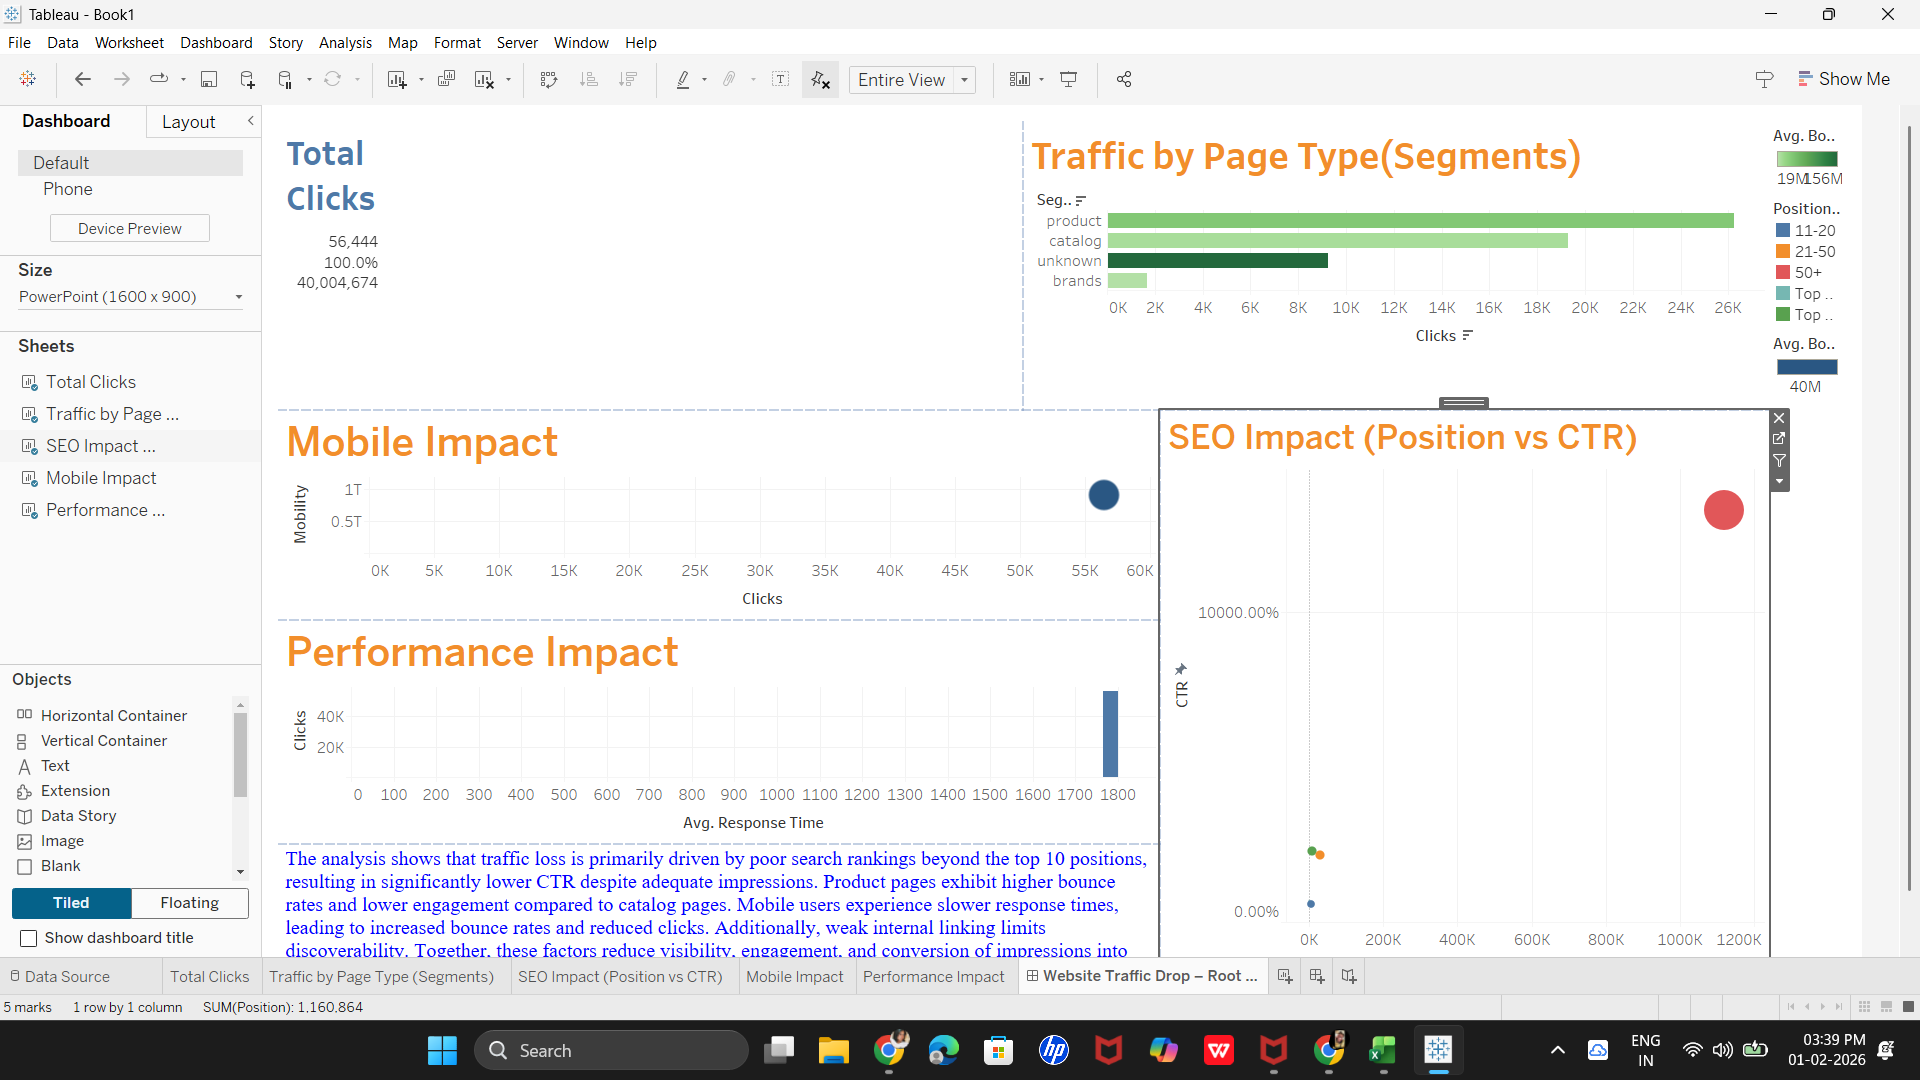

Layout of this report page (visuals, bound fields, positions):
{"tool":"tableau","page":{"name":"Website Traffic Drop – Root Cause Analysis","canvas":[1600,900],"ordinal":0},"visuals":[{"type":"worksheet","title":"Total Clicks","mark":"Automatic","box":[16,16,745.4,289.3]},{"type":"worksheet","title":"Traffic by Page Type (Segments)","mark":"Automatic","rows":["Segments"],"cols":["Clicks"],"box":[761.4,16,745.6,289.3]},{"type":"legend","title":"Traffic by Page Type (Segments)","param":"[federated.0e7lbdt1mvdj1x1cw9acv07dqodu].[avg:BounceRate:qk]","box":[1507,16,77,73]},{"type":"legend","title":"SEO Impact (Position vs CTR)","param":"[federated.0e7lbdt1mvdj1x1cw9acv07dqodu].[none:Position_Bucket:nk]","box":[1507,89,77,135]},{"type":"legend","title":"Mobile Impact","param":"[federated.0e7lbdt1mvdj1x1cw9acv07dqodu].[avg:BounceRate:qk]","box":[1507,224,77,73]},{"type":"worksheet","title":"Mobile Impact","mark":"Circle","rows":["Mobility"],"cols":["Clicks"],"box":[16,305.3,882,209.7]},{"type":"worksheet","title":"SEO Impact (Position vs CTR)","mark":"Circle","rows":["CTR"],"cols":["Position"],"box":[898,305.3,609,578.7]},{"type":"worksheet","title":"Performance Impact","mark":"Bar","rows":["Clicks"],"cols":["Response Time"],"box":[16,515,882,224.3]},{"type":"text","box":[16,739.3,882,144.7]}]}

Visuals, with their boxes on the page's 1600x900 design canvas (x1, y1, x2, y2). These are canvas units, not pixel positions in the 1920x1080 screenshot, which may show the page scaled, cropped or inside an application window:
"Total Clicks" worksheet: l=16, t=16, r=761, b=305
"Traffic by Page Type (Segments)" worksheet: l=761, t=16, r=1507, b=305
"Traffic by Page Type (Segments)" legend: l=1507, t=16, r=1584, b=89
"SEO Impact (Position vs CTR)" legend: l=1507, t=89, r=1584, b=224
"Mobile Impact" legend: l=1507, t=224, r=1584, b=297
"Mobile Impact" worksheet (Circle marks): l=16, t=305, r=898, b=515
"SEO Impact (Position vs CTR)" worksheet (Circle marks): l=898, t=305, r=1507, b=884
"Performance Impact" worksheet (Bar marks): l=16, t=515, r=898, b=739
text: l=16, t=739, r=898, b=884
